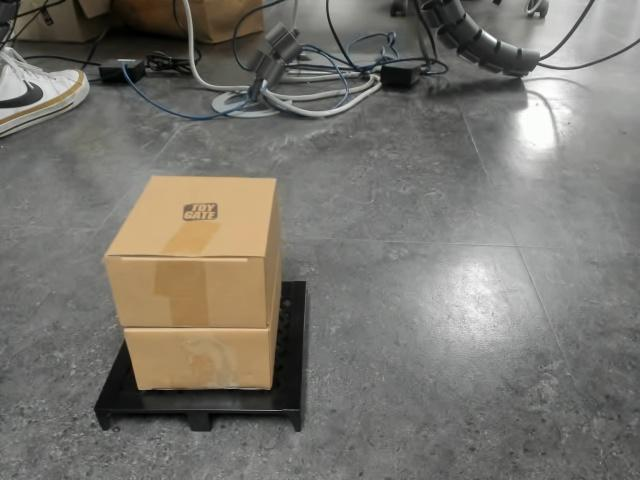box: (93, 175, 311, 433)
